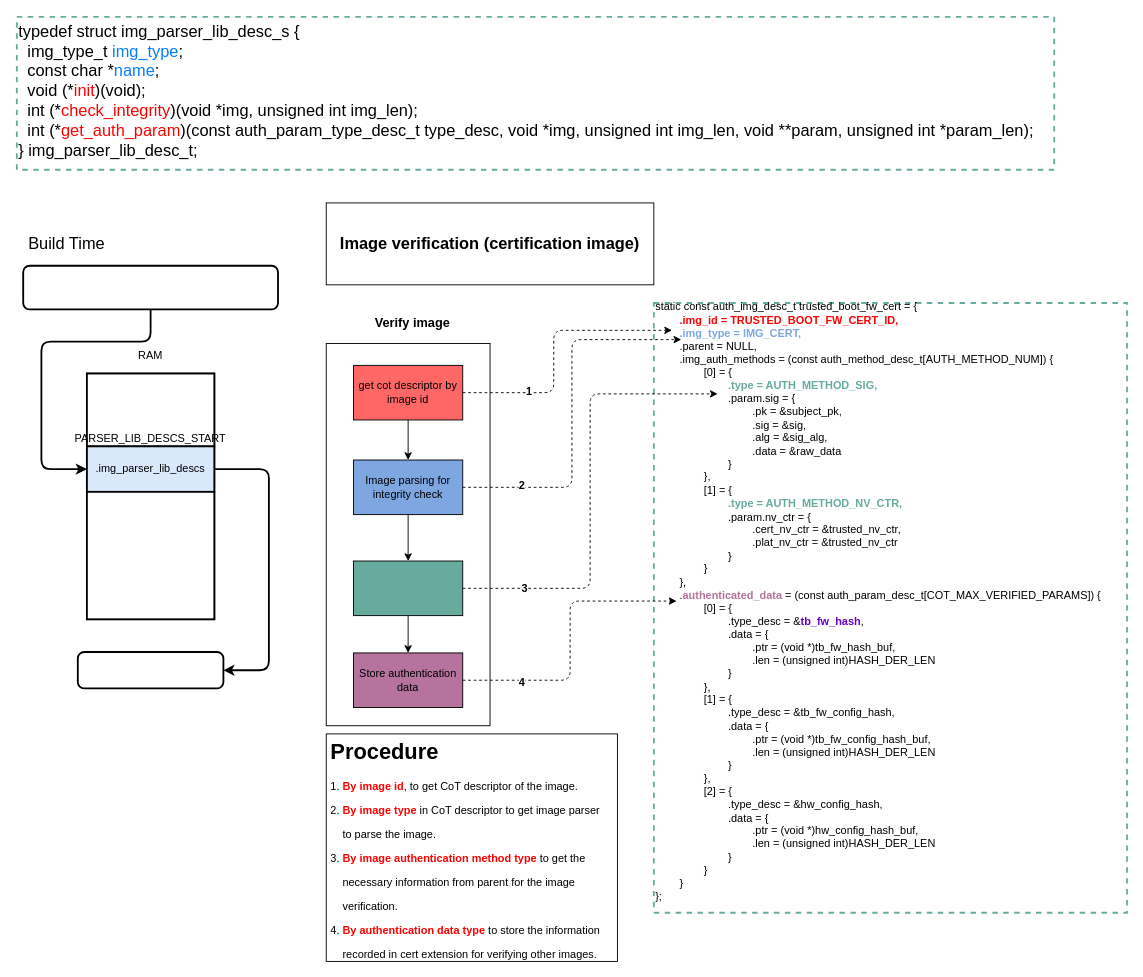
This 1143x977 diagram has some shape labels left out. The shapes that lost their labels are listed below. From the top down, each one's centre as x and y in pixels, then its label:
point 150,287: REGISTER_IMG_PARSER_LIB
point 150,555: PARSER_LIB_DESCS_END
point 408,588: Image authentication
point 150,670: img_parser_init
